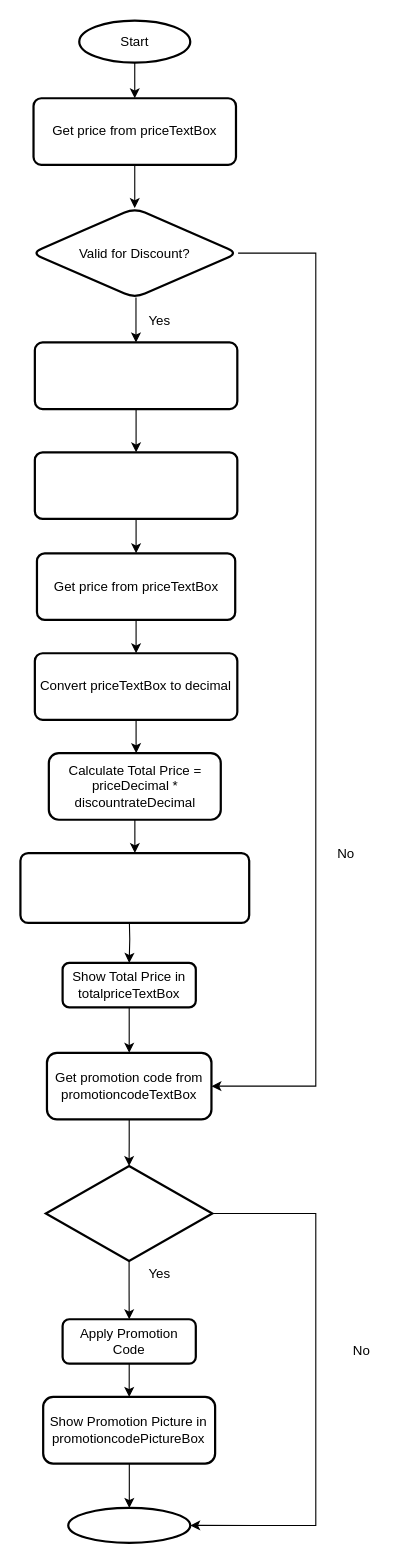
Some shapes in this 398 by 1563 pixel diagram are drawn without their labels. The shapes that lost their labels are listed below. From the top down, each one's centre as x and y in pixels, then its label:
At (135,375): "Get discount from discountTextBox".
At (135,485): "Convert discountTextBox to decimal".
At (134,887): "Convert totalpriceDecimal into text".
At (128,1213): "Valid Promotion Code?".
At (129,1524): "End".
